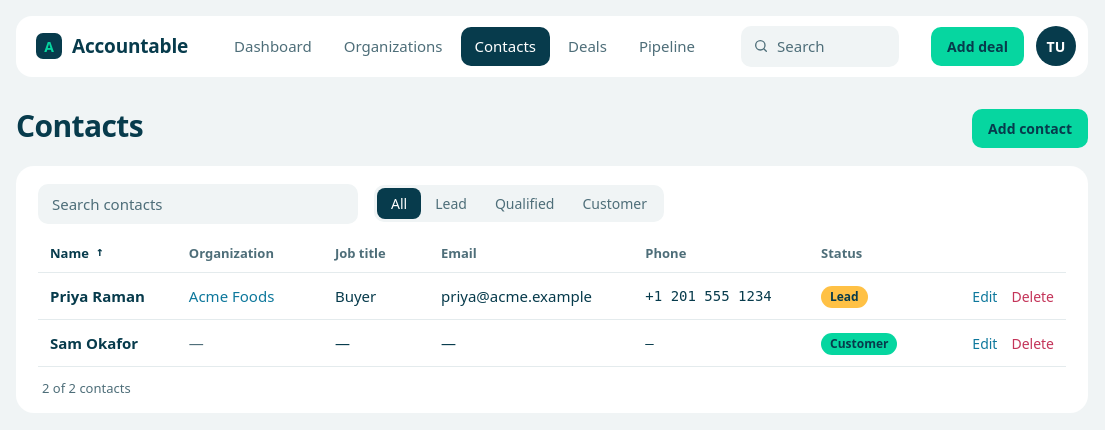
Test: the status filter shows only contacts with that status
The width and height of the screenshot is (1105, 430).
Check: the link "Priya Raman" is shown, box [50,286,145,306]
Click the button "Customer". click: (615, 204)
box: [568,188,661,219]
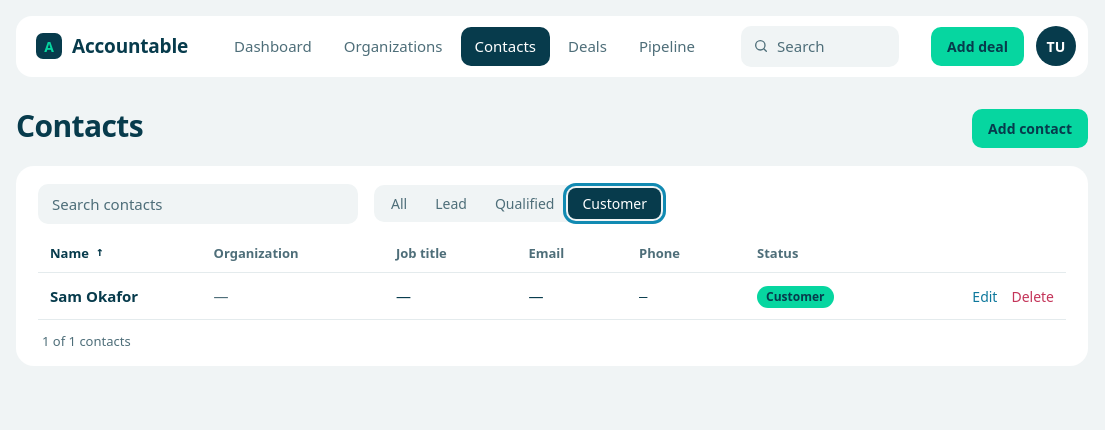
Check: the row "Sam Okafor — — — — Customer Edit Delete" is shown, box [38,272,1066,320]
Check: the link "Priya Raman" is gone
